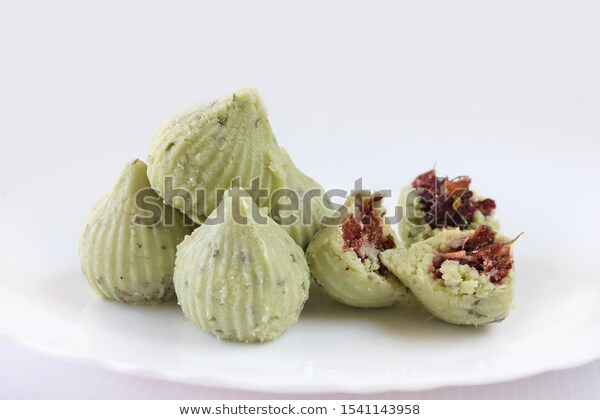modak: (178, 182, 334, 366), (129, 57, 283, 223), (55, 166, 193, 300)
